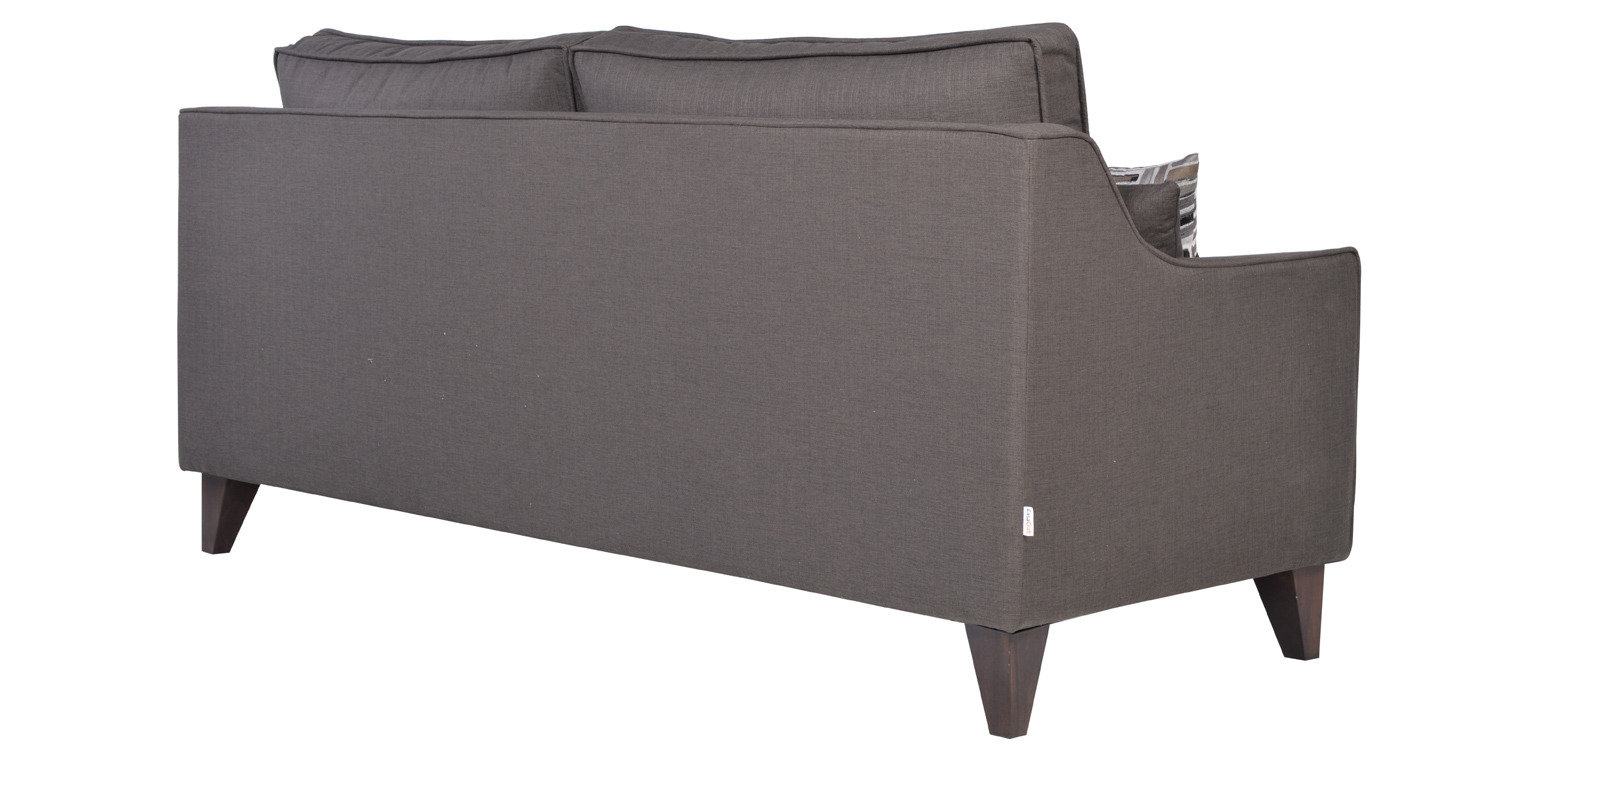Ithaca Impulse Three Seater Sofa with Throw Cushions in Charcoal Grey Colour by: (168, 14, 1374, 758)
